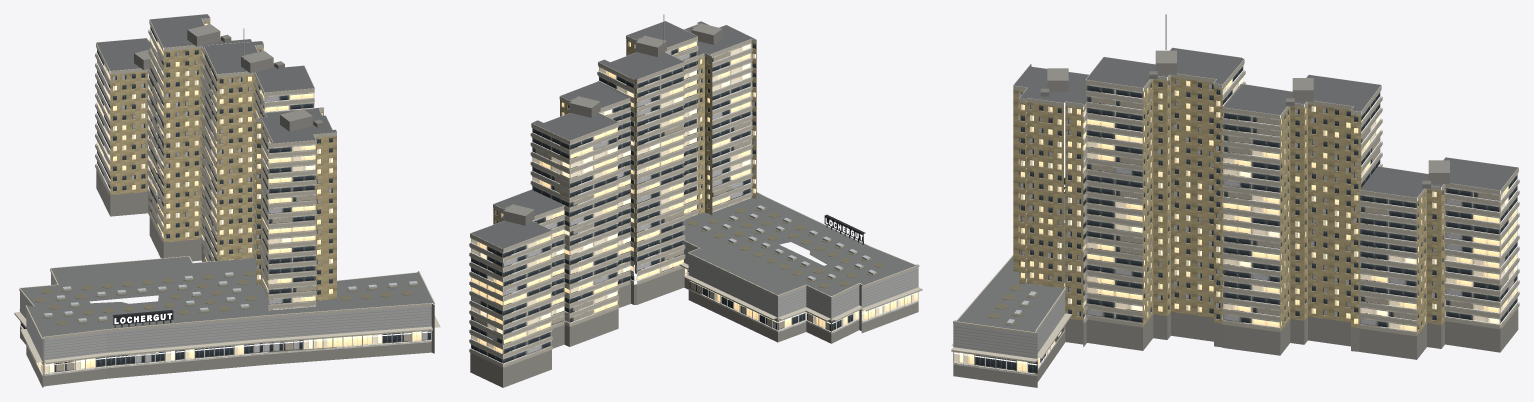
Rendered from lochergut.glb.
The picture shows the model from 3 angles, left to right: view 1: azimuth 30°, elevation 25°; view 2: azimuth 150°, elevation 25°; view 3: azimuth 270°, elevation 25°; orthographic projection. The views are drawn at different scales.
Parts seen in each view (by area): view 1: lochergut; view 2: lochergut; view 3: lochergut.
Boxes of the visible parts, <box> form: lochergut: <box>14,14,440,387</box>; lochergut: <box>469,14,922,387</box>; lochergut: <box>951,14,1519,387</box>.
Bounding box in the file's own units: 109 × 80.24 × 133.
4 materials, 4 textured.
